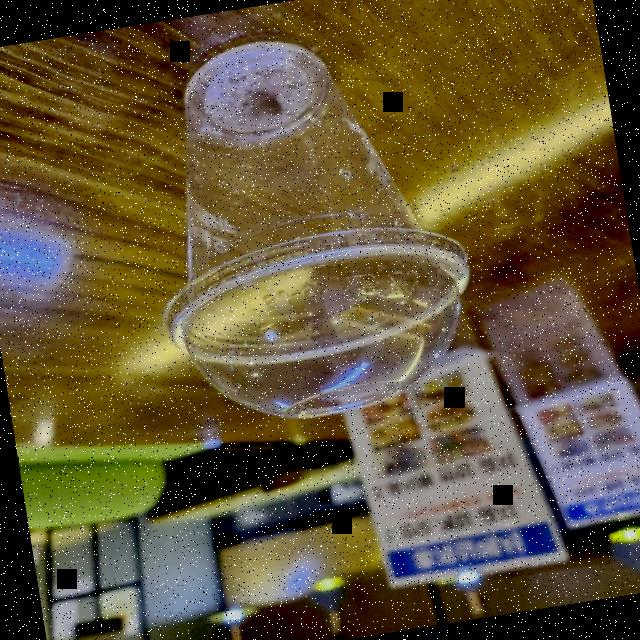plastic_cup_lid: (152, 207, 496, 453)
